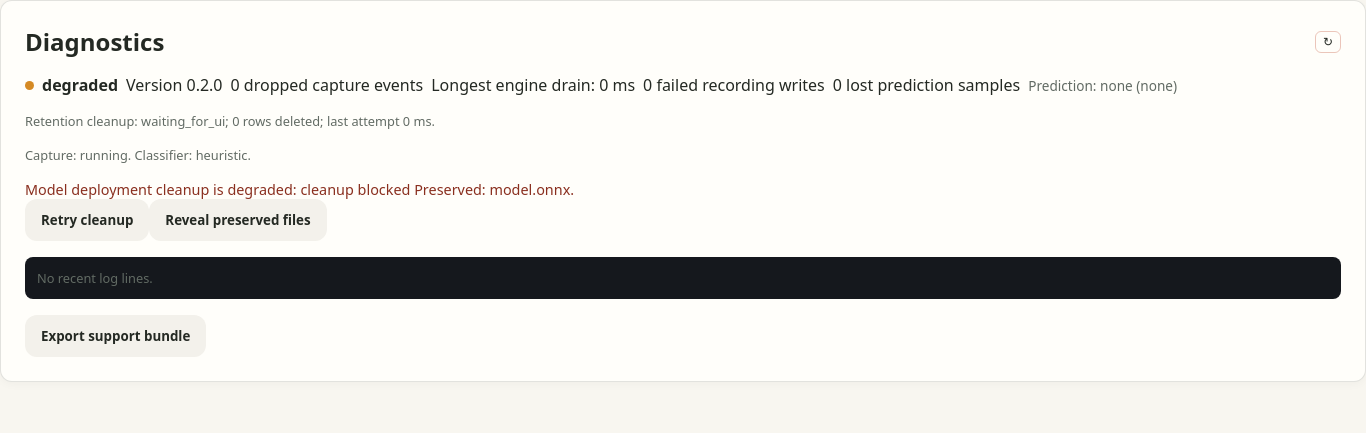
Scenario: DiagnosticsCard model deployment recovery › reports when retry cleanup fails
Click the button "Retry cleanup": (87, 220) left=25, top=199, right=149, bottom=241
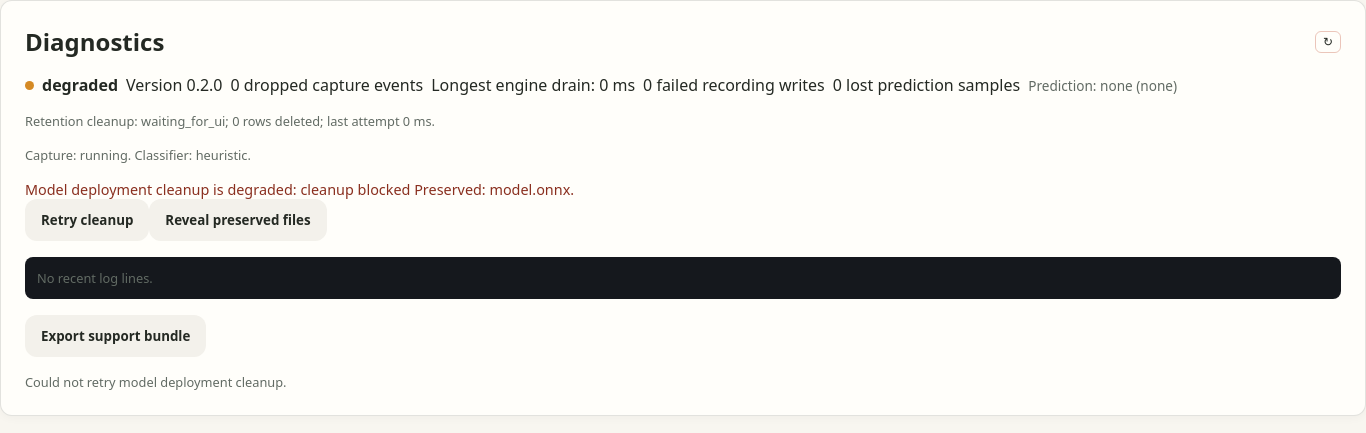
Expected: the text "Could not retry model deployment cleanup." is shown, left=25, top=373, right=286, bottom=391
